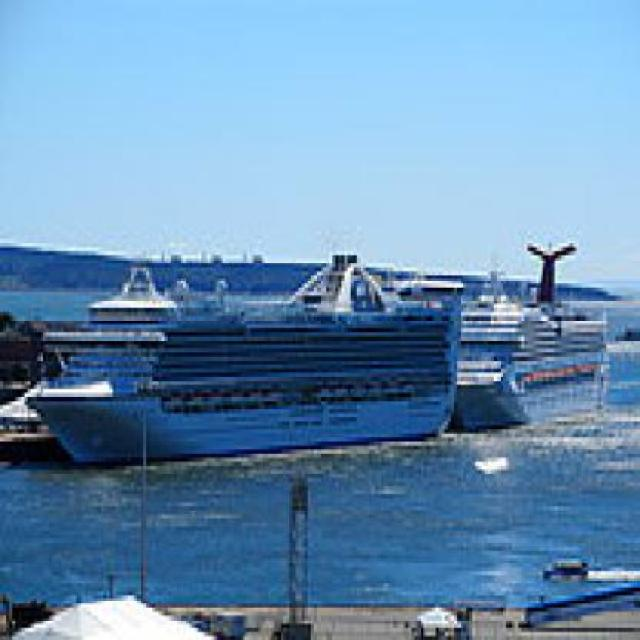cruise: (20, 244, 474, 475), (443, 228, 620, 439)
